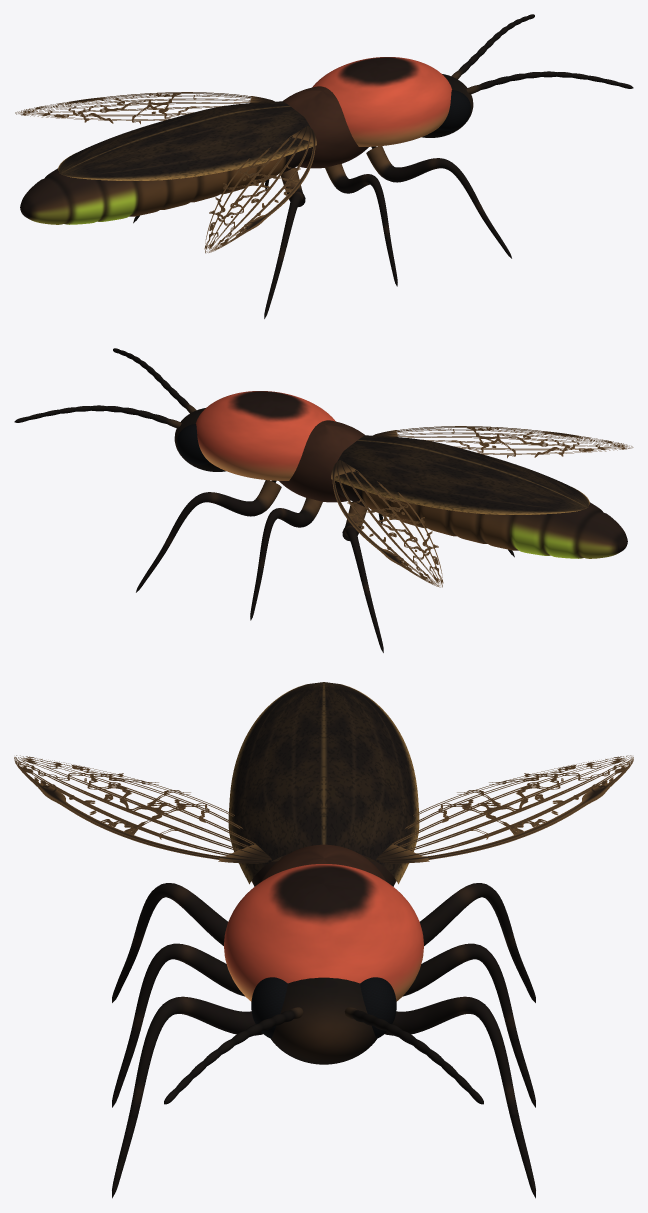
The model's file is firefly.obj.
3 views of the same model, one above another, from view 1: azimuth 30°, elevation 25°; view 2: azimuth 150°, elevation 25°; view 3: azimuth 270°, elevation 25° (orthographic). The views are drawn at different scales.
Visible parts, largest first — view 1: elytra_L, pronotum, abdomen, thorax, wing_L_top, elytra_R, wing_R_top, leg_0, wing_R_bot, wing_L_bot, leg_1, leg_2 (+4 smaller); view 2: elytra_R, pronotum, abdomen, thorax, wing_R_top, elytra_L, wing_L_top, leg_3, wing_L_bot, wing_R_bot, leg_4, leg_5 (+4 smaller); view 3: pronotum, elytra_L, elytra_R, head, wing_R_top, wing_L_top, leg_0, leg_3, wing_L_bot, wing_R_bot, leg_1, leg_4 (+7 smaller).
Part boxes in pixels (x1,y1,x2,y2): elytra_L: (60,106,316,180); pronotum: (312,57,451,146); abdomen: (20,147,312,224); thorax: (283,86,368,168); wing_L_top: (204,126,316,252); elytra_R: (58,101,289,173); wing_R_top: (15,92,274,122); leg_0: (366,146,511,258); wing_R_bot: (15,93,251,124); wing_L_bot: (204,136,316,253); leg_1: (325,164,397,286); leg_2: (264,167,305,318); elytra_R: (331,440,587,514); pronotum: (196,391,335,480); abdomen: (335,481,627,558); thorax: (279,420,364,502); wing_R_top: (331,460,443,586); elytra_L: (358,435,589,507); wing_L_top: (373,426,632,456); leg_3: (136,480,281,592); wing_L_bot: (396,427,633,458); wing_R_bot: (331,470,443,587); leg_4: (250,498,322,620); leg_5: (342,501,383,652); pronotum: (224,864,423,1001); elytra_L: (228,682,323,884); elytra_R: (324,682,419,884); head: (271,977,376,1064); wing_R_top: (365,755,633,861); wing_L_top: (14,755,282,861); leg_0: (112,996,262,1198); leg_3: (385,996,535,1198); wing_L_bot: (14,757,280,863); wing_R_bot: (367,757,633,863); leg_1: (112,943,244,1107); leg_4: (403,943,535,1107).
Size of the model in its own units: 13.1 by 3.6 by 7.75.
Materials: 2 (2 with a texture image).
